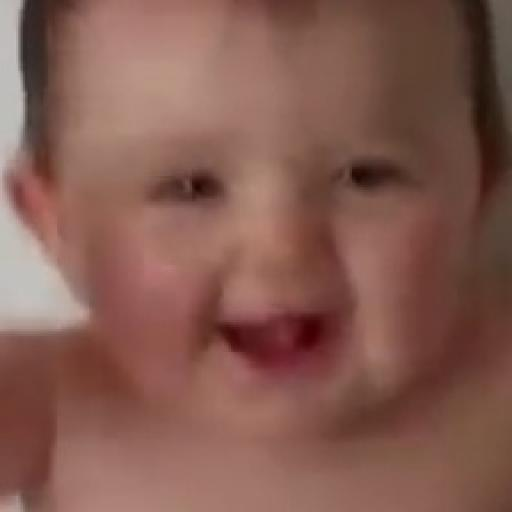Autism: (44, 22, 496, 476)
